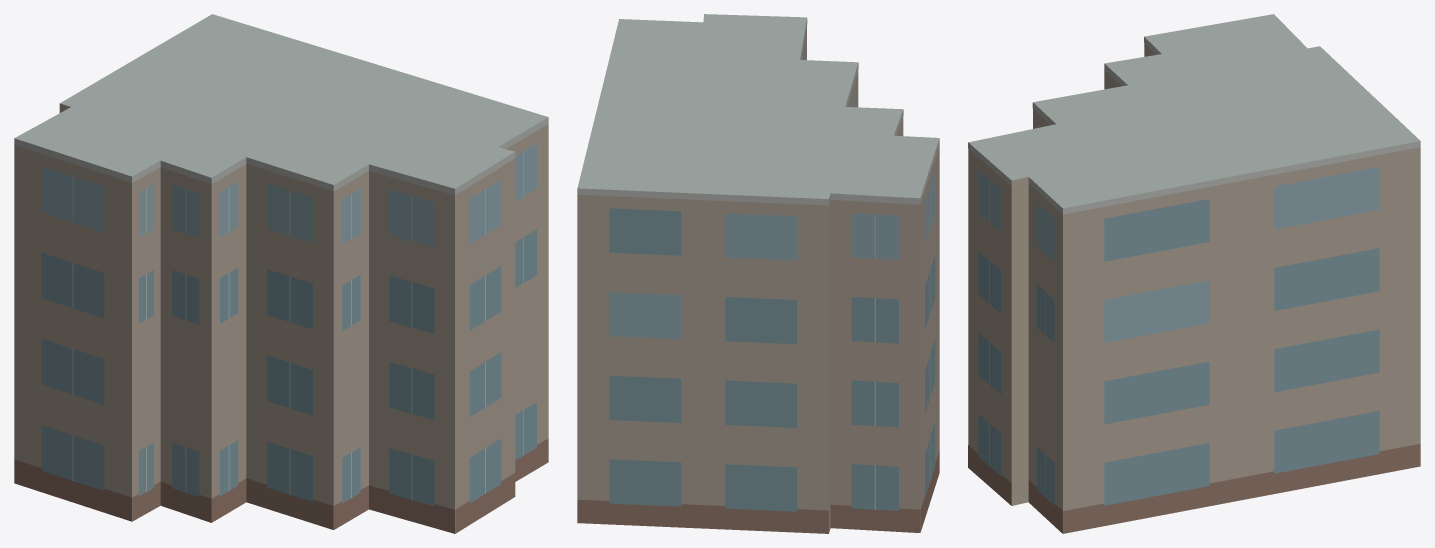
The model's file is survey-upis-32847841.glb.
3 renders of one model, left to right at view 1: azimuth 30°, elevation 25°; view 2: azimuth 150°, elevation 25°; view 3: azimuth 270°, elevation 25°, orthographic. The views are drawn at different scales.
Parts seen in each view (by area): view 1: survey-upis-32847841.tmp; view 2: survey-upis-32847841.tmp; view 3: survey-upis-32847841.tmp.
Part boxes in pixels (<box>): survey-upis-32847841.tmp: <box>14,14,548,533</box>; survey-upis-32847841.tmp: <box>577,14,939,533</box>; survey-upis-32847841.tmp: <box>968,14,1420,533</box>.
Size of the model in its own units: 16.41 by 12.8 by 16.14.
